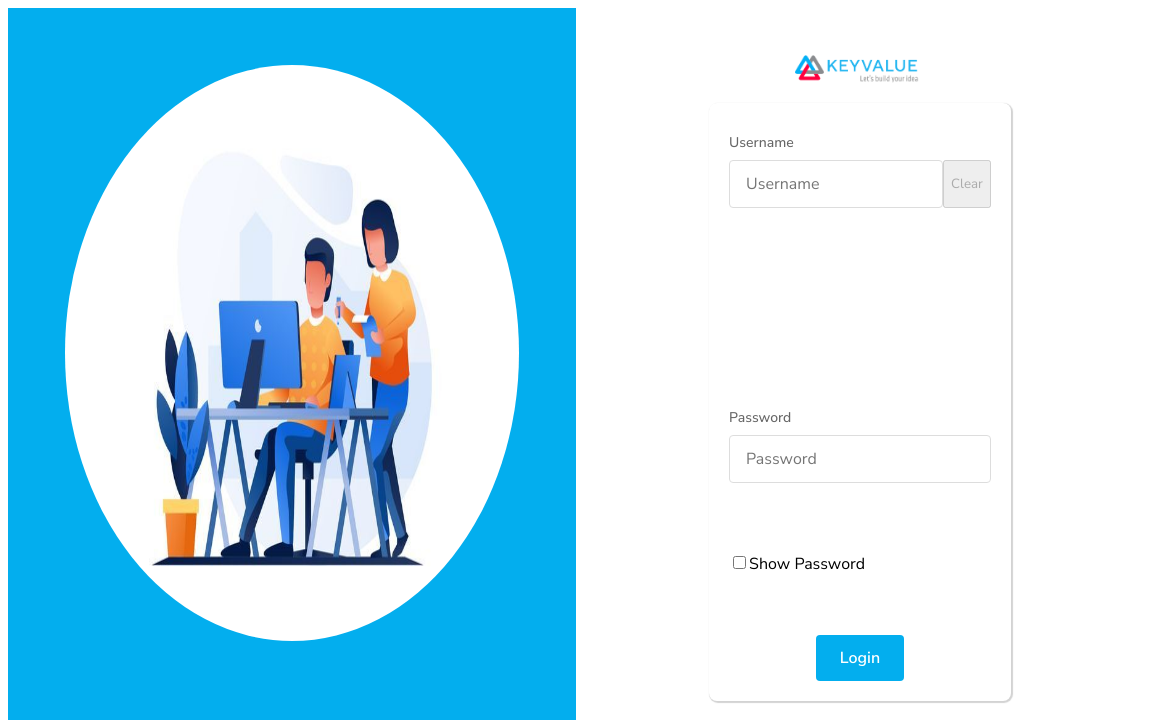
Test: Login Page › should handle login failure
Step 1. Type "test@example.com" into the field labelled "Username" → [836, 184], box [729,160,943,208]
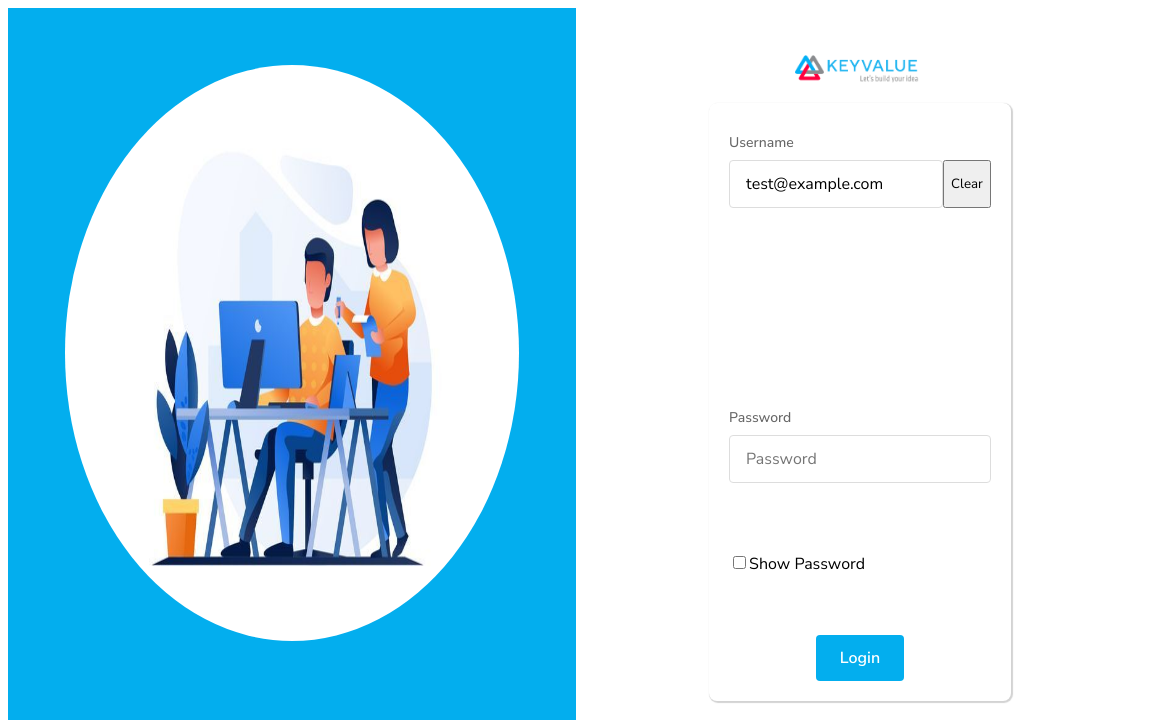
Step 2. Type "password123" into the password field labelled "Password" → [860, 459], box [729,435,991,483]
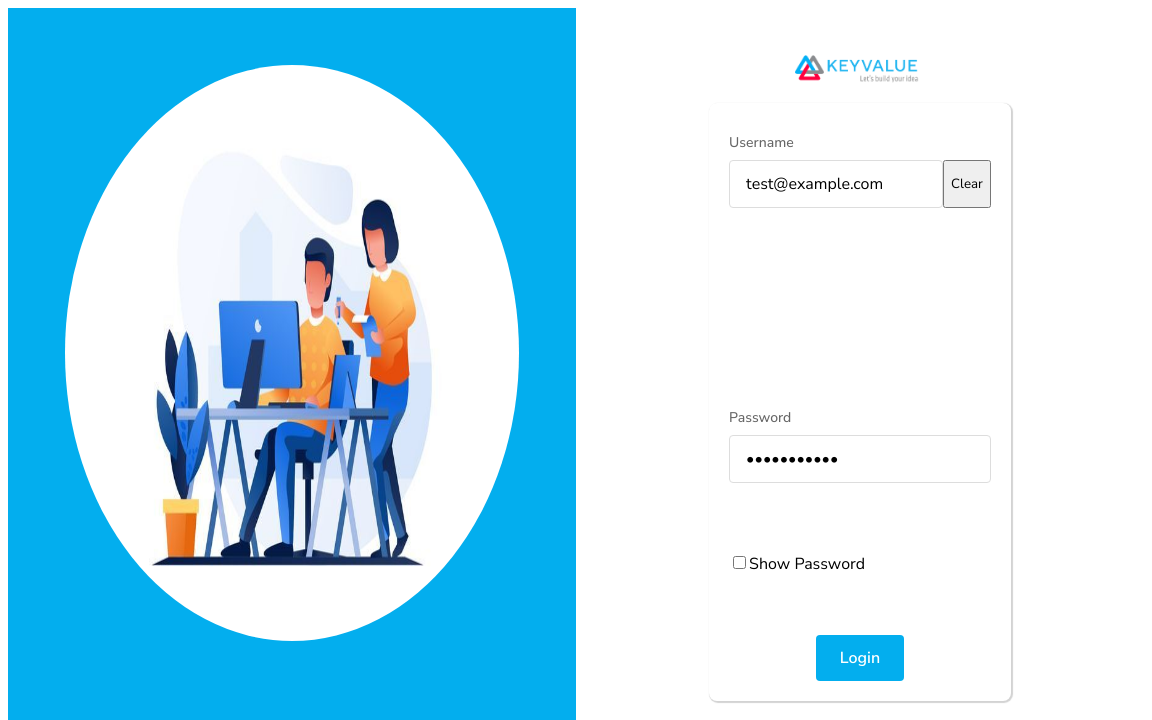
// Submit the form
Step 3. Click the button "Login" → [860, 658], box [816,635,904,681]
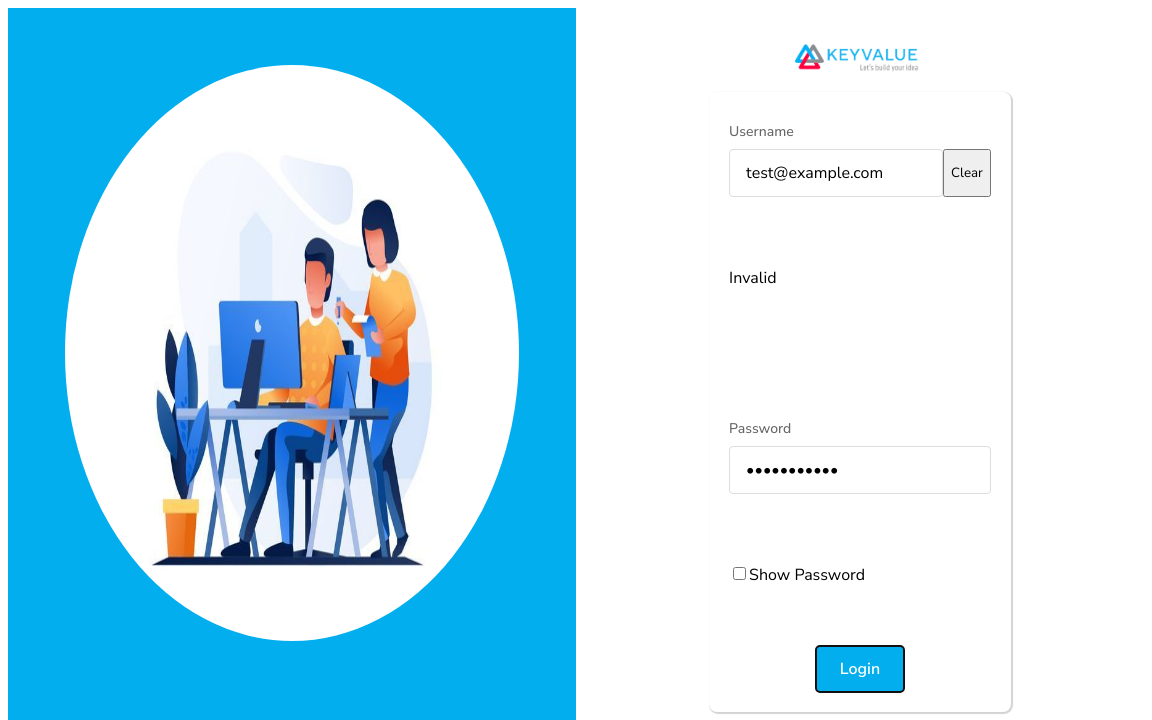
Now the text "Invalid" is shown, box [729,267,777,289]
